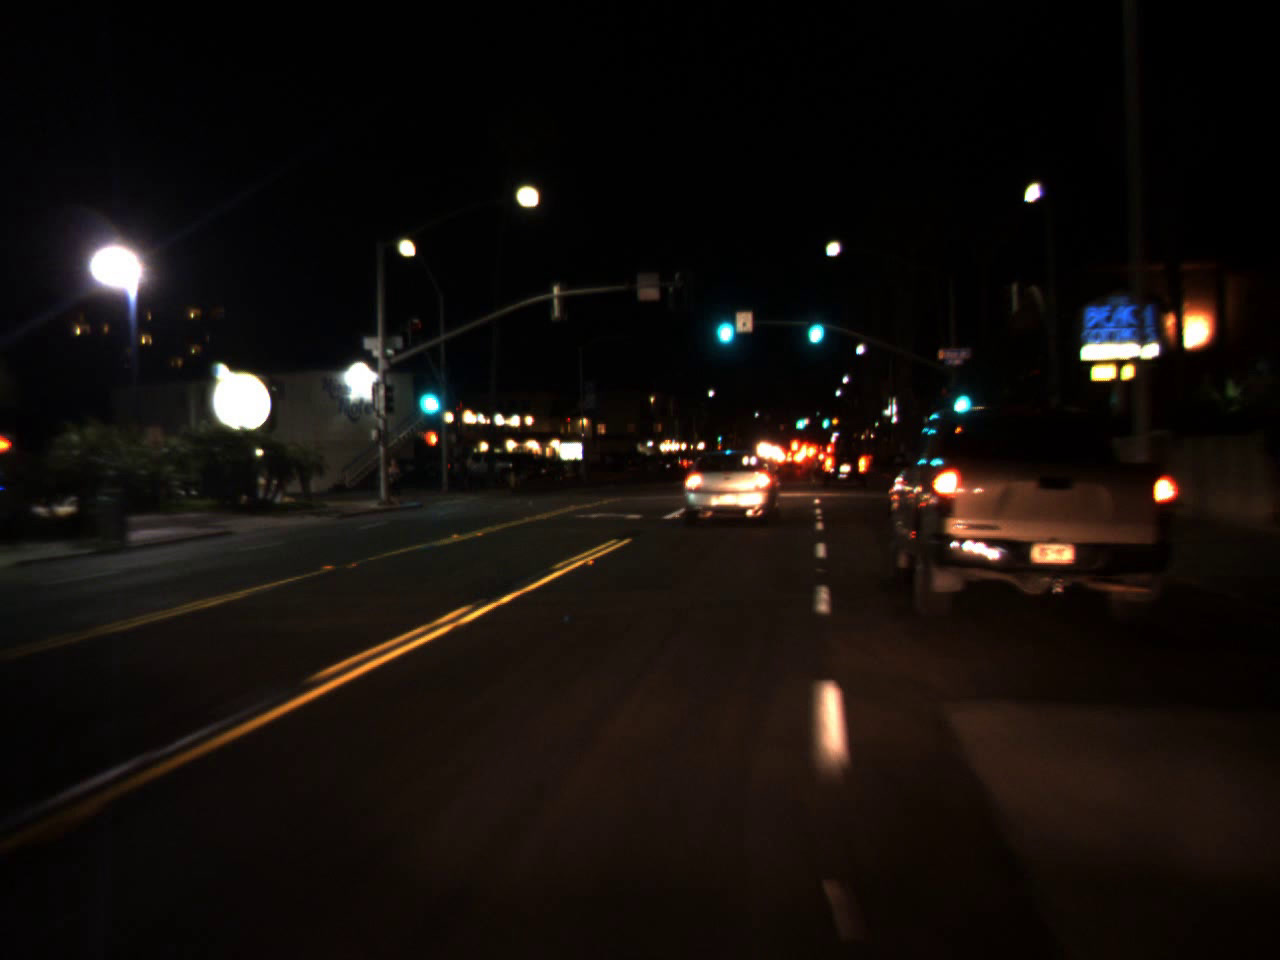go: (410, 364, 446, 424), (710, 297, 737, 351), (946, 370, 974, 421), (803, 305, 822, 344), (795, 408, 805, 432), (819, 409, 828, 430)
